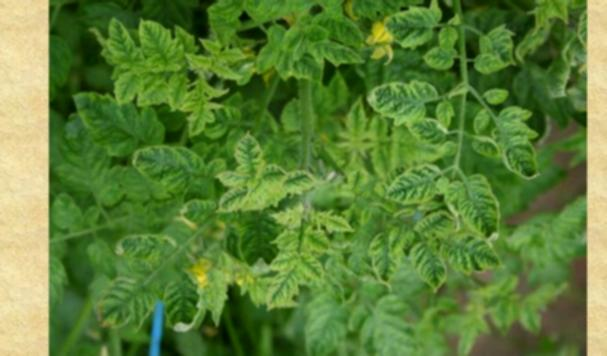Tomato leaf yellow virus: (67, 89, 175, 164), (129, 140, 204, 201), (95, 280, 160, 334), (486, 120, 545, 179), (363, 77, 427, 129), (408, 233, 456, 301), (457, 167, 503, 237), (364, 207, 402, 287), (166, 267, 210, 335), (443, 237, 512, 278), (252, 265, 305, 318), (385, 158, 444, 205), (378, 9, 446, 48), (116, 224, 179, 263), (230, 123, 266, 183), (309, 36, 374, 66), (103, 21, 145, 67), (112, 61, 151, 108), (141, 17, 176, 69), (280, 162, 327, 199), (298, 247, 339, 286), (213, 180, 258, 215), (254, 35, 281, 76), (168, 72, 193, 109), (271, 249, 297, 278), (212, 63, 246, 83)
